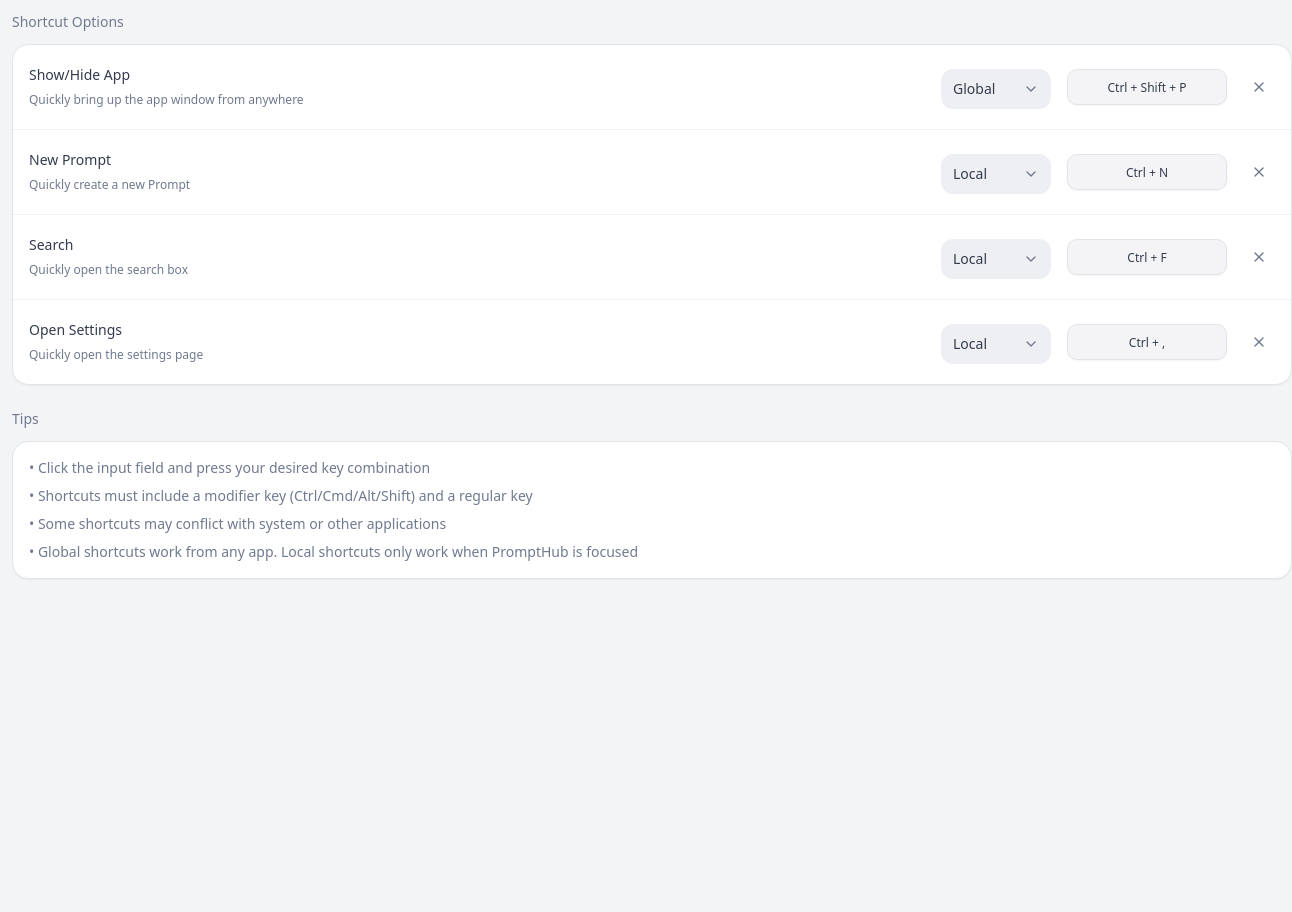
Test case: ShortcutsSettings › restores a cleared shortcut when Electron persistence fails
Expected: the field showing "Ctrl + N" is shown, [1067,154,1227,190]
Click the button named "Clear shortcut for New Prompt" at (1259, 172), box [1243,156,1275,188]
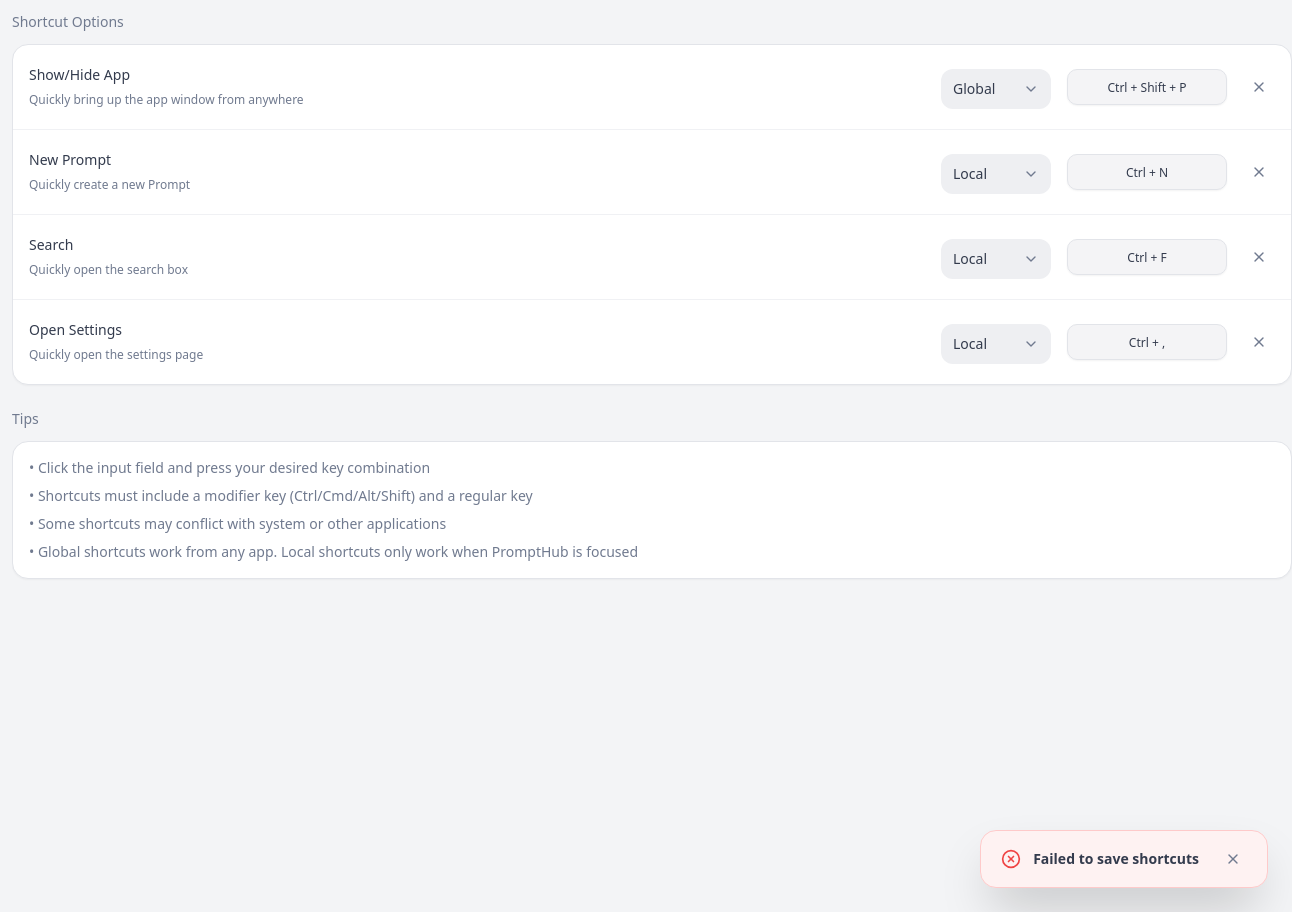
Expected: the field showing "Ctrl + N" is shown, [1067,154,1227,190]
Result: the text "Failed to save shortcuts" is shown at [1033,849,1199,869]
